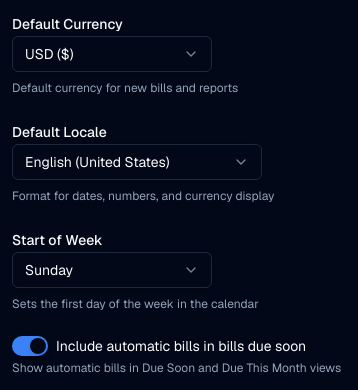
Test: ViewOptionsForm › include auto pay toggle › shows loading indicator while updating include auto pay setting
Click the switch with id "include-autopay-toggle". click: [30, 346]
box: [12,336,48,356]
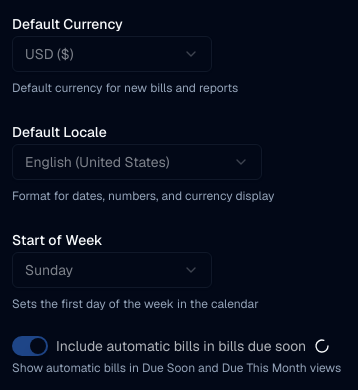
Check: the icon with class "animate-spin" is shown, box [314,338,330,354]
